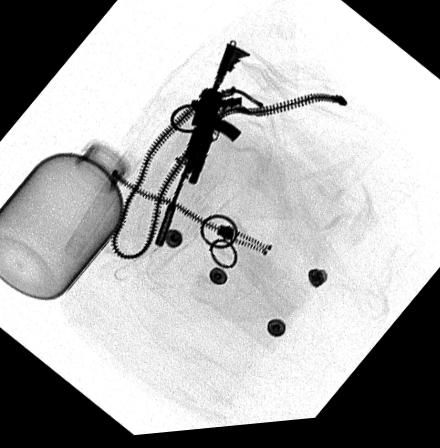Gun: (154, 45, 250, 251)
